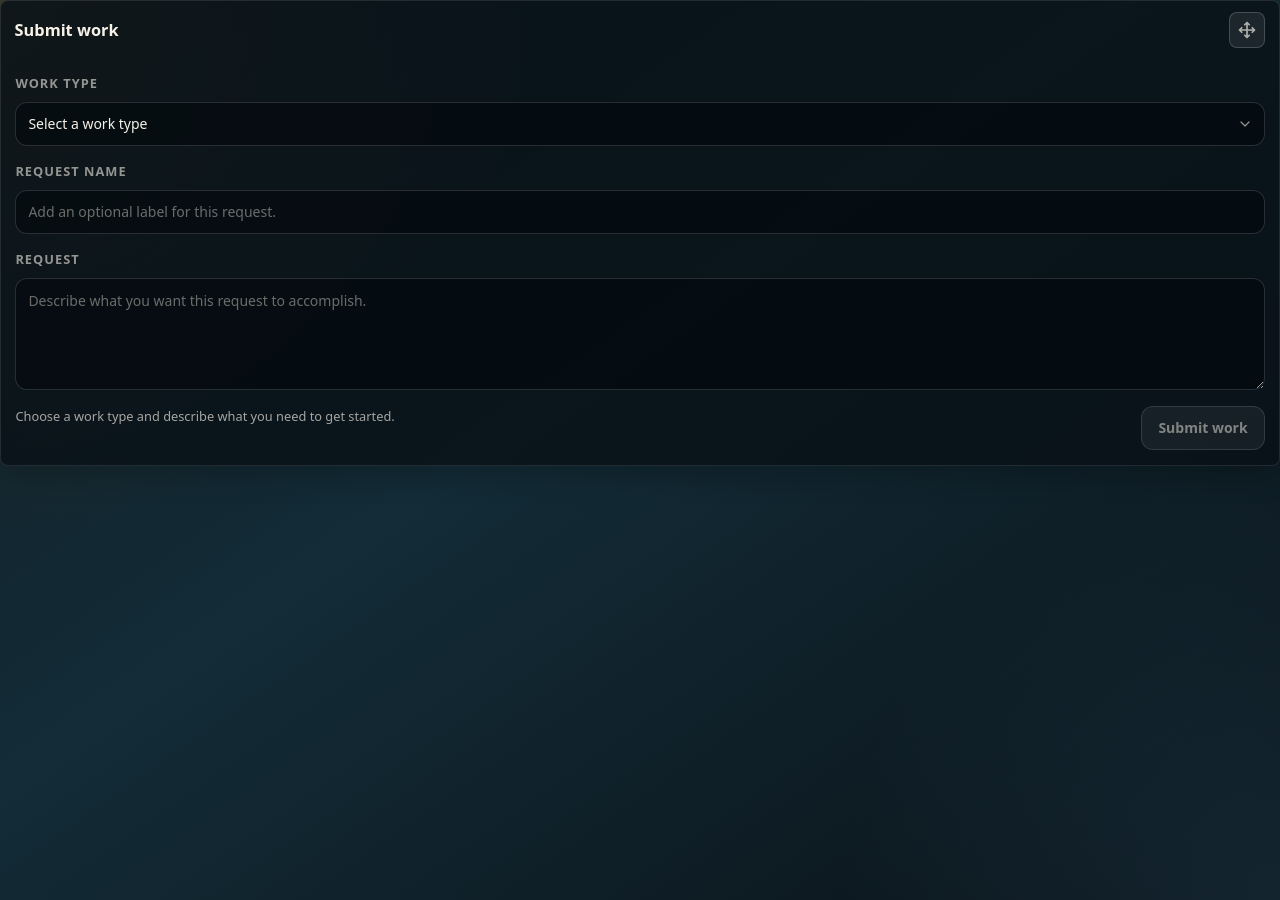
Test case: SubmitWorkWidget › disables submission until a configured work type and request text are present
Check: the button "Submit work" is disabled, box [1141,406,1265,450]
Check: the text "Choose a work type and describe what you need to get started." is shown, box [15,406,395,427]
Select "story" in the dropdown labelled "Work type": (640, 124) [15,102,1265,146]
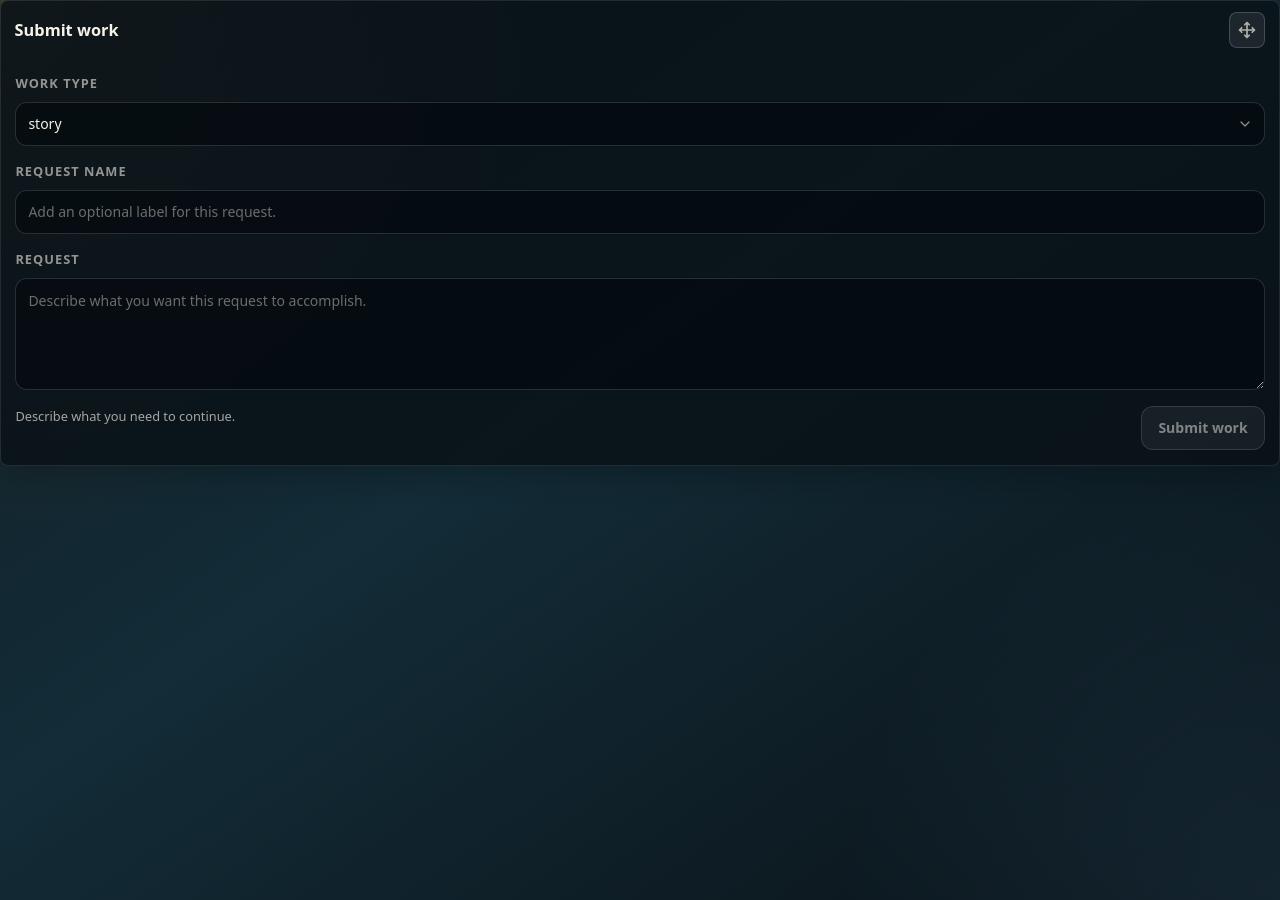
Check: the button "Submit work" is disabled, box [1141,406,1265,450]
Check: the text "Describe what you need to continue." is shown, box [15,406,235,427]
In the field labelled "Request name": (640, 212) [15,190,1265,234], type "Driver review"
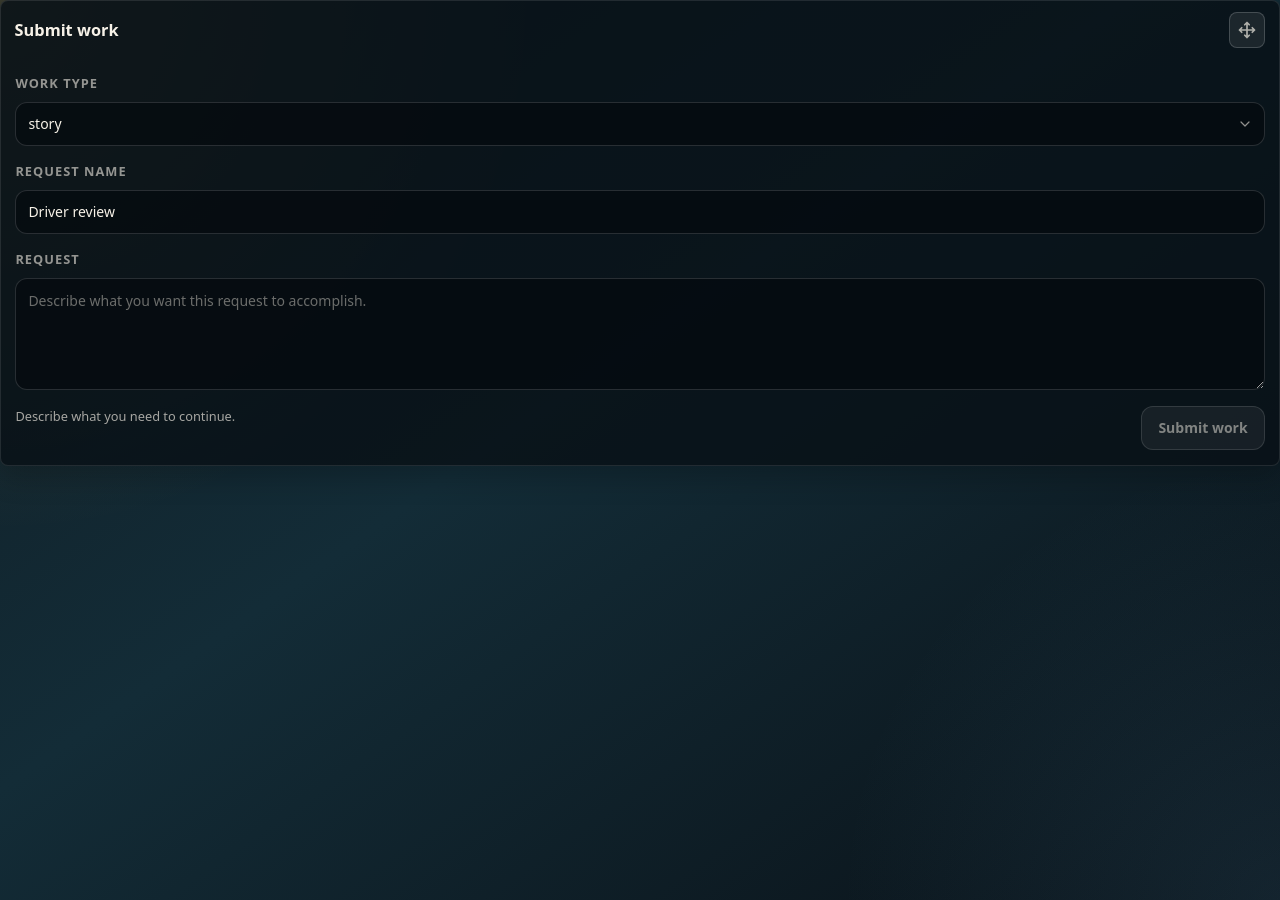
Check: the button "Submit work" is disabled, box [1141,406,1265,450]
In the text box labelled "Request": (640, 334) [15,278,1265,390], type "Review the failed driver trace."
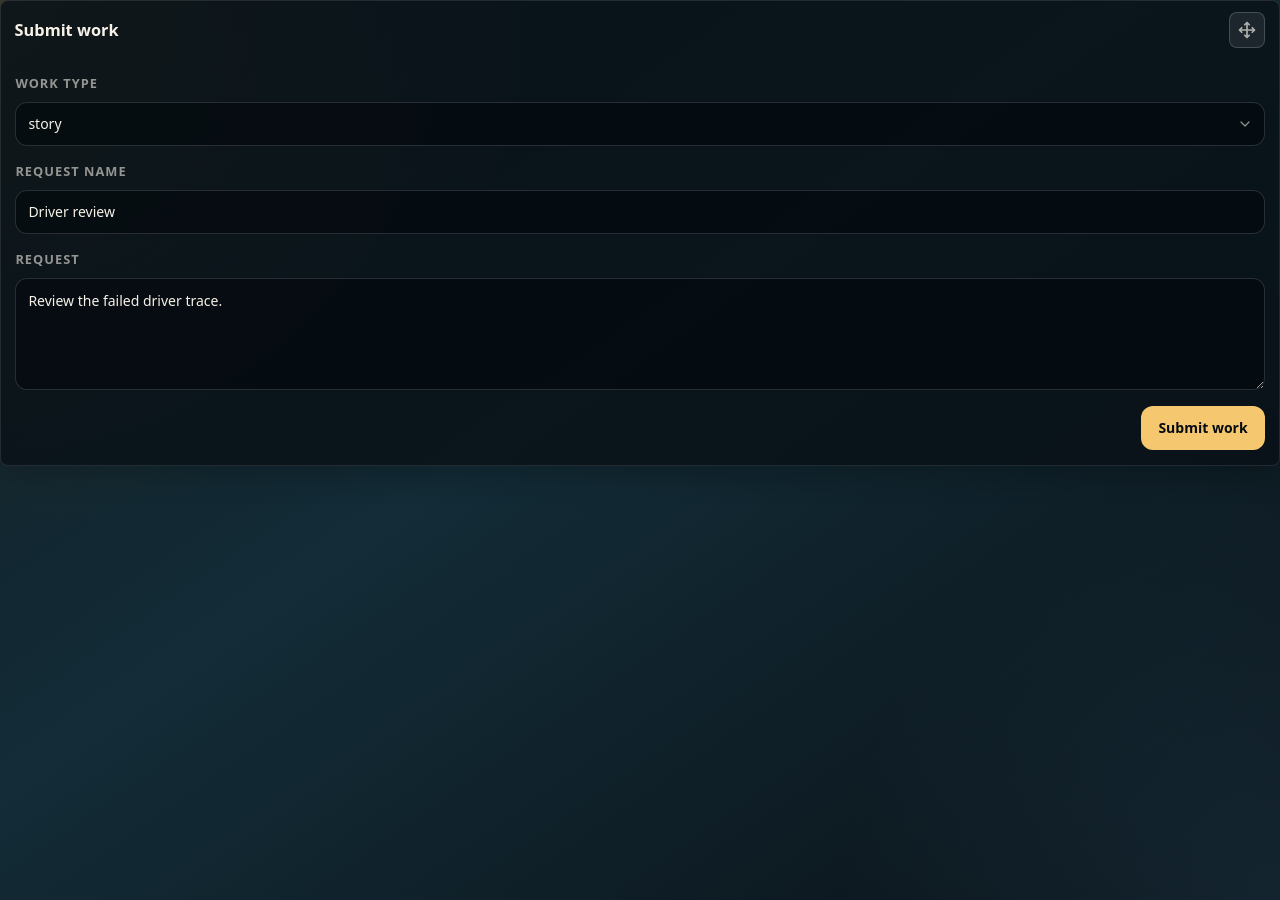
Check: the button "Submit work" is enabled, box [1141,406,1265,450]
